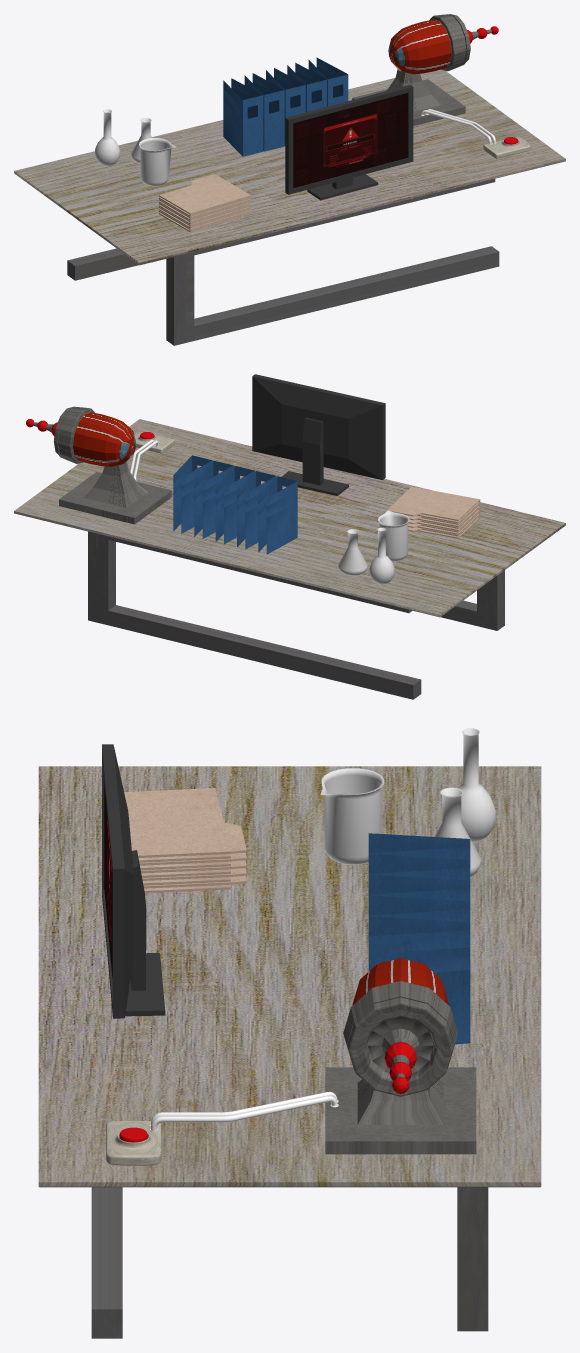
File: Mesa.fbx
3 renders of one model, top to bottom at view 1: azimuth 30°, elevation 25°; view 2: azimuth 150°, elevation 25°; view 3: azimuth 270°, elevation 25°, orthographic. The views are drawn at different scales.
Parts seen in each view (by area): view 1: Mesa, PC, Capas, Maquina, Documento, Frascos, Base, Comando, Fio; view 2: Mesa, PC, Capas, Maquina, Documento, Frascos, Base, Comando; view 3: Mesa, Maquina, Capas, Documento, PC, Frascos, Base, Fio, Comando.
Part boxes in pixels (x1=…): Mesa: x1=14, y1=69, x2=565, y2=345; PC: x1=285, y1=85, x2=413, y2=200; Capas: x1=223, y1=57, x2=348, y2=156; Maquina: x1=387, y1=14, x2=498, y2=111; Documento: x1=159, y1=174, x2=250, y2=232; Frascos: x1=95, y1=109, x2=175, y2=186; Base: x1=352, y1=79, x2=465, y2=125; Comando: x1=483, y1=136, x2=530, y2=158; Fio: x1=421, y1=109, x2=496, y2=144; Mesa: x1=14, y1=419, x2=565, y2=699; PC: x1=252, y1=374, x2=385, y2=495; Capas: x1=173, y1=455, x2=297, y2=554; Maquina: x1=26, y1=406, x2=147, y2=507; Documento: x1=387, y1=486, x2=480, y2=538; Frascos: x1=338, y1=510, x2=409, y2=584; Base: x1=59, y1=472, x2=172, y2=524; Comando: x1=134, y1=431, x2=174, y2=453; Mesa: x1=38, y1=766, x2=541, y2=1338; Maquina: x1=343, y1=958, x2=458, y2=1124; Capas: x1=368, y1=833, x2=470, y2=1044; Documento: x1=124, y1=788, x2=246, y2=893; PC: x1=102, y1=744, x2=165, y2=1018; Frascos: x1=320, y1=728, x2=495, y2=876; Base: x1=325, y1=1067, x2=476, y2=1154; Fio: x1=150, y1=1091, x2=338, y2=1131; Comando: x1=106, y1=1120, x2=161, y2=1165.
Size of the model in its own units: 4.75 by 1.97 by 2.3.
Materials: 11 (11 with a texture image).
